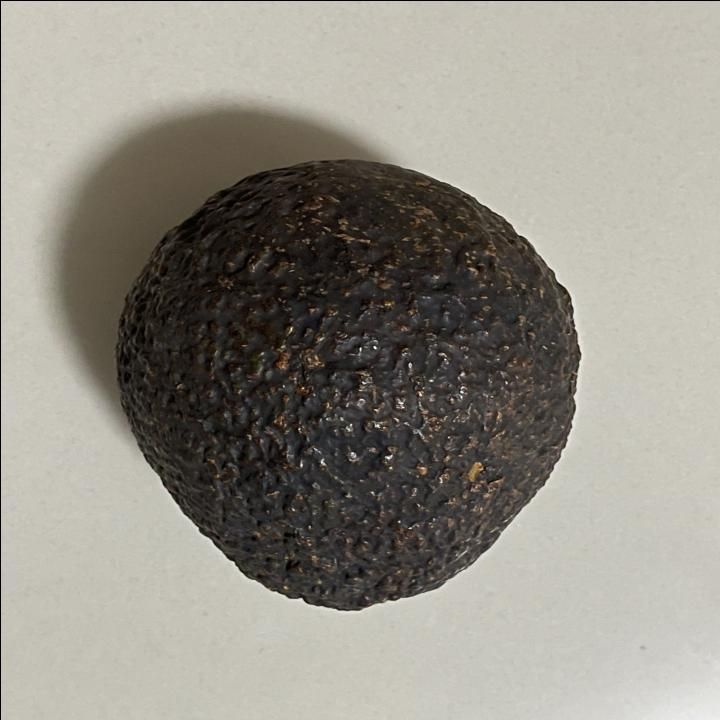Level3: (102, 151, 589, 620)
